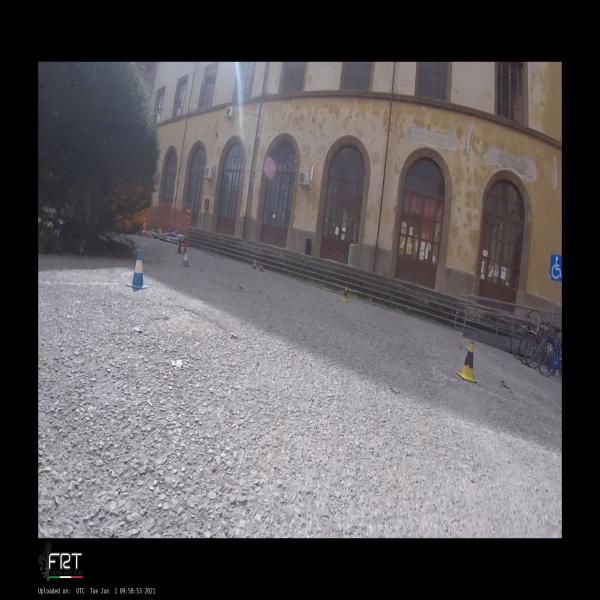blue_cone: (127, 250, 149, 288), (181, 249, 189, 266)
large_orange_cone: (259, 261, 264, 272), (252, 259, 257, 269)
yellow_cone: (457, 341, 477, 383), (341, 286, 349, 303)
